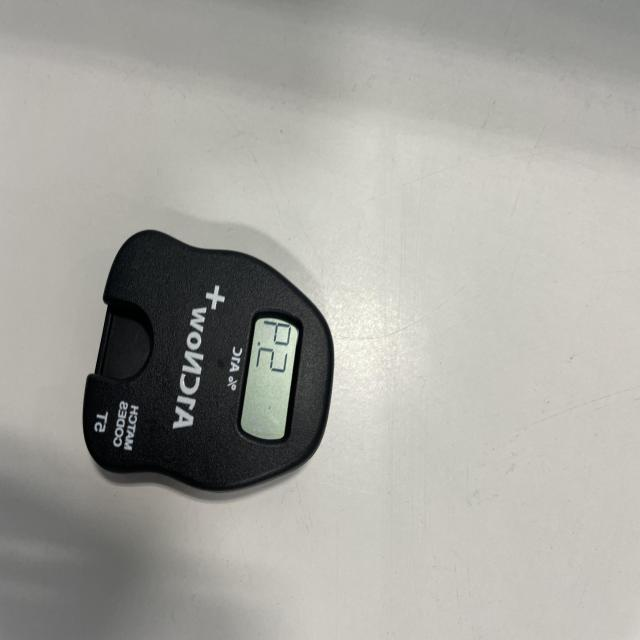hba1c: (81, 230, 336, 498)
